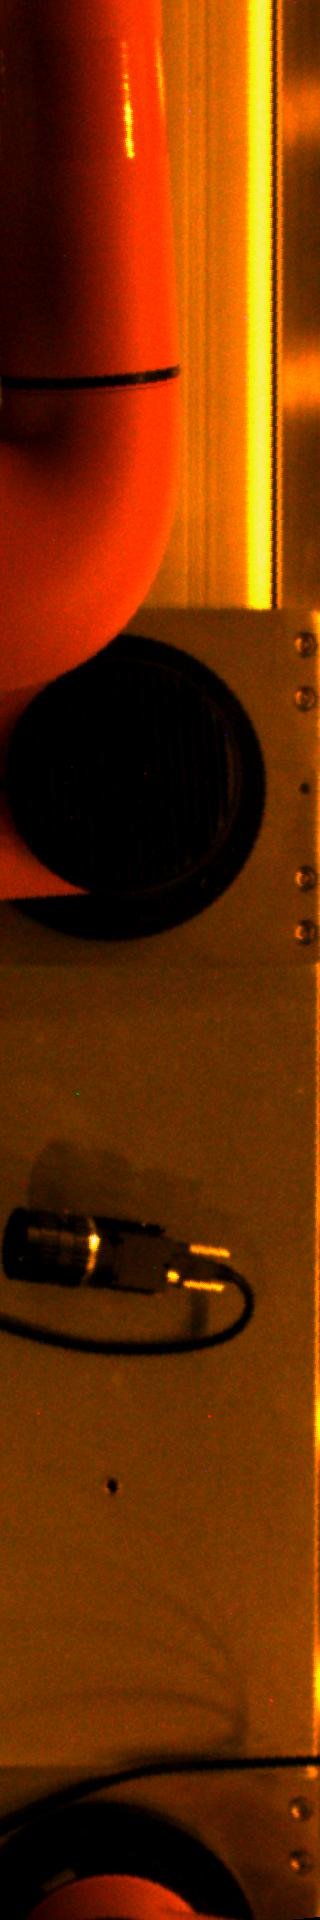keyPoint_2: (97, 1471, 128, 1501)
